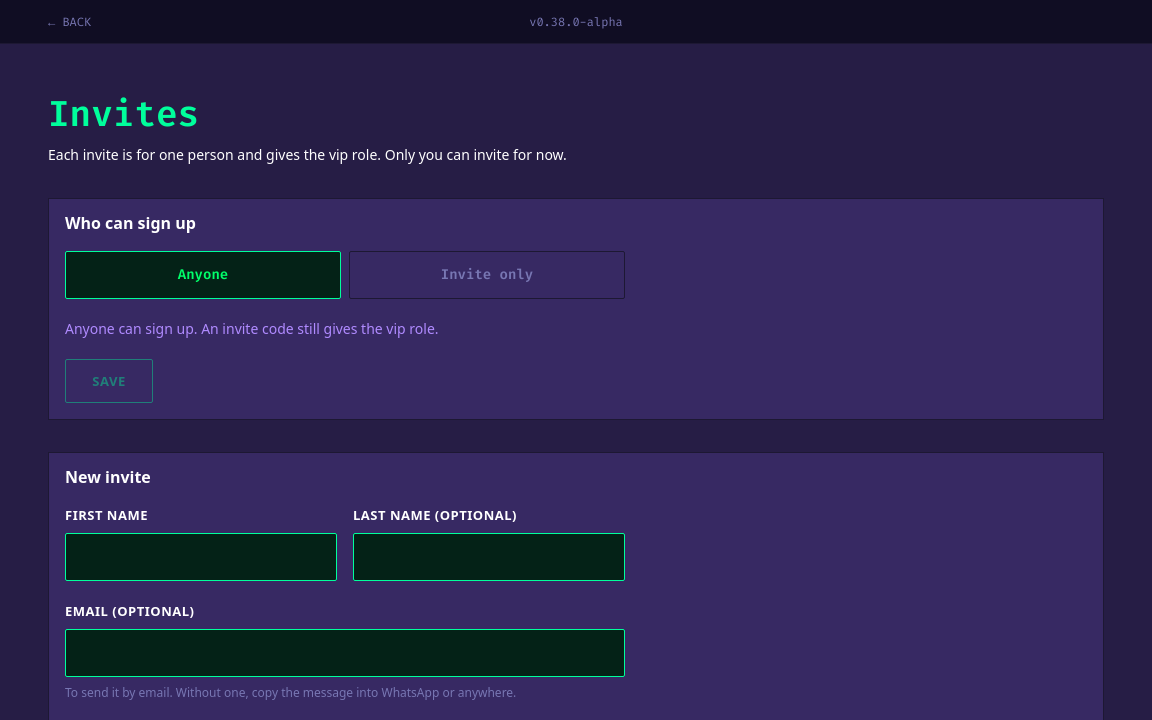
Test: AdminInvites › makes an invite without an email and shows its code, link and message to copy
Type "Anna" into the field labelled "First name".
click(201, 557); type("Anna")  # box [65, 533, 337, 581]
(page scrolled)
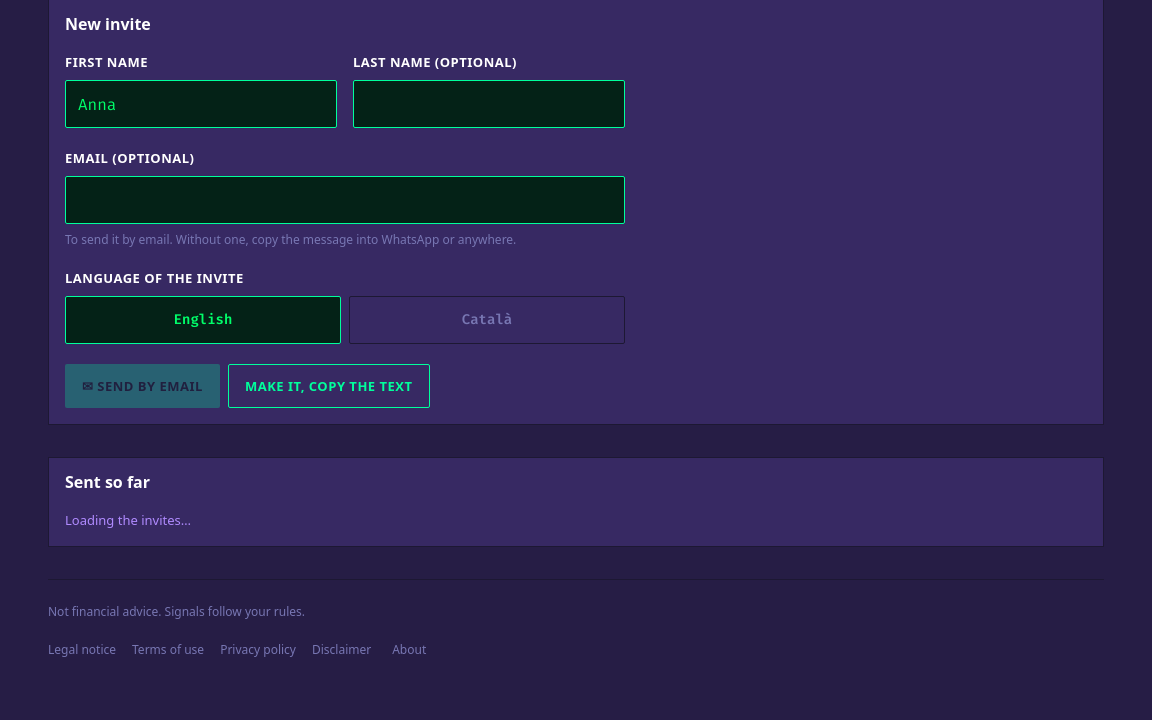
Click the button "Make it, copy the text".
click(329, 386)  # box [228, 364, 430, 408]
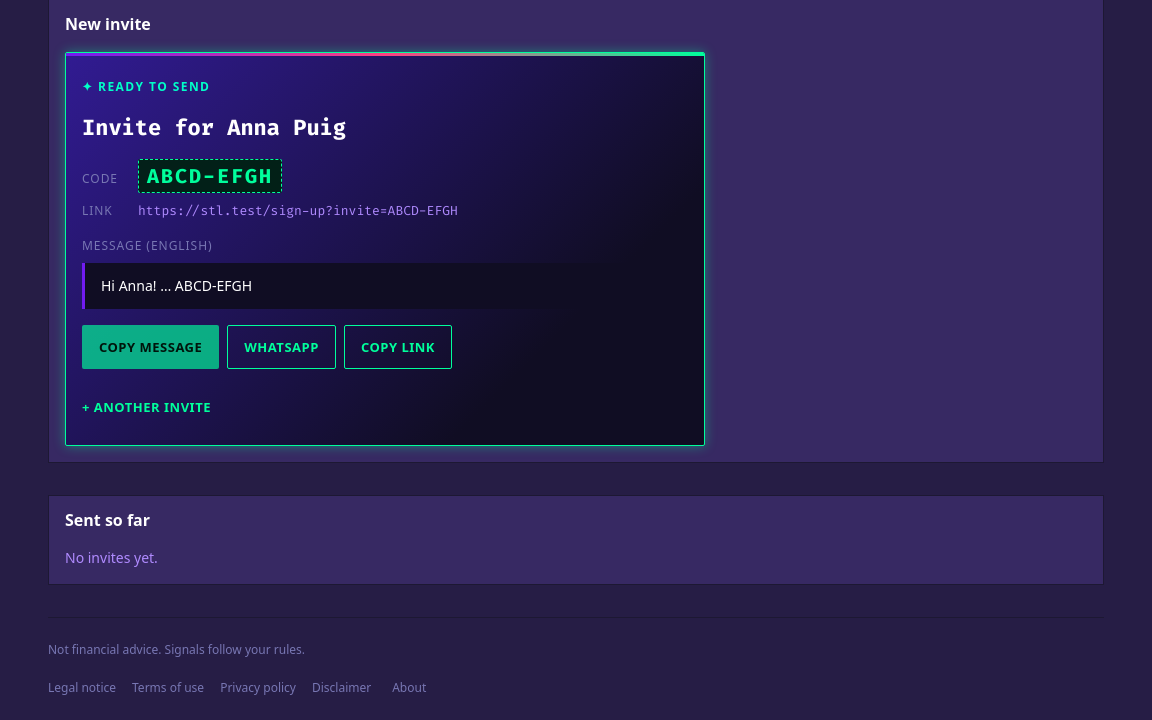
Now the heading "Invite for Anna Puig" is shown, box [82, 113, 346, 142]
Now the text "https://stl.test/sign-up?invite=ABCD-EFGH" is shown, box [138, 201, 458, 221]
Now the button "Copy message" is shown, box [82, 325, 219, 369]
